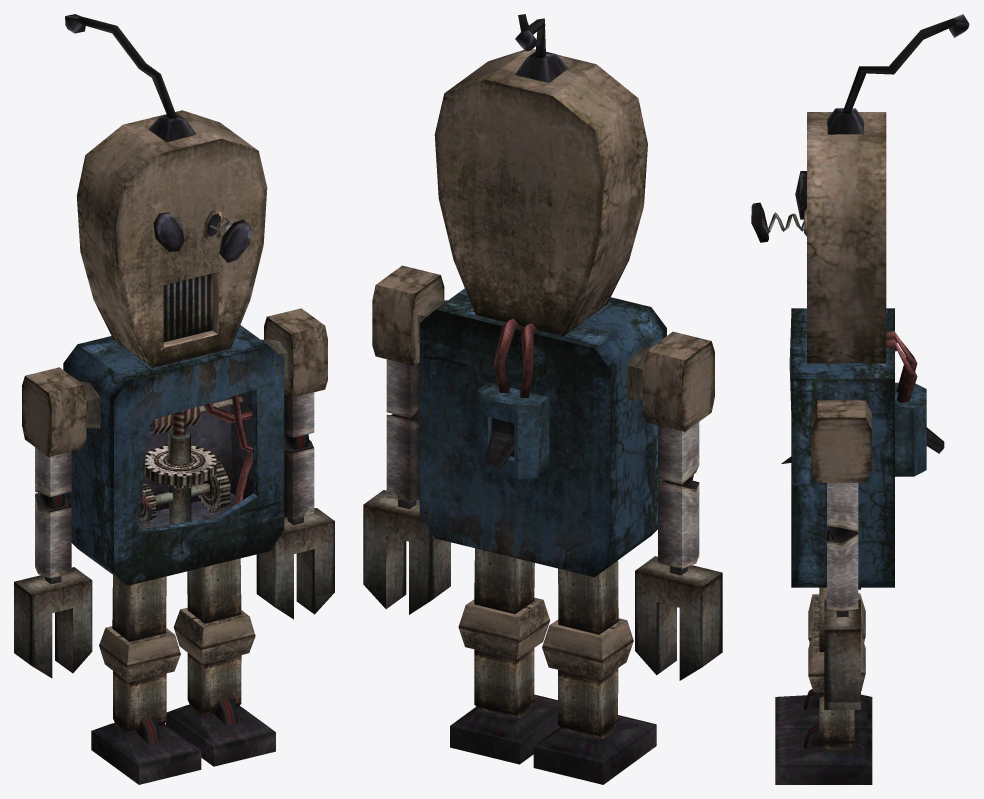
Rendered from robot.glb.
3 views of the same model, side by side, from view 1: azimuth 30°, elevation 25°; view 2: azimuth 150°, elevation 25°; view 3: azimuth 270°, elevation 25° (orthographic). The views are drawn at different scales.
Visible parts, largest first — view 1: Object_2; view 2: Object_2; view 3: Object_2.
Part boxes in pixels (box(x1,y1,x2,y2)): Object_2: box(14, 14, 334, 784); Object_2: box(363, 14, 722, 784); Object_2: box(751, 14, 969, 784).
Size of the model in its own units: 0.6045 by 1.33 by 0.3694.
1 material, 1 textured.
